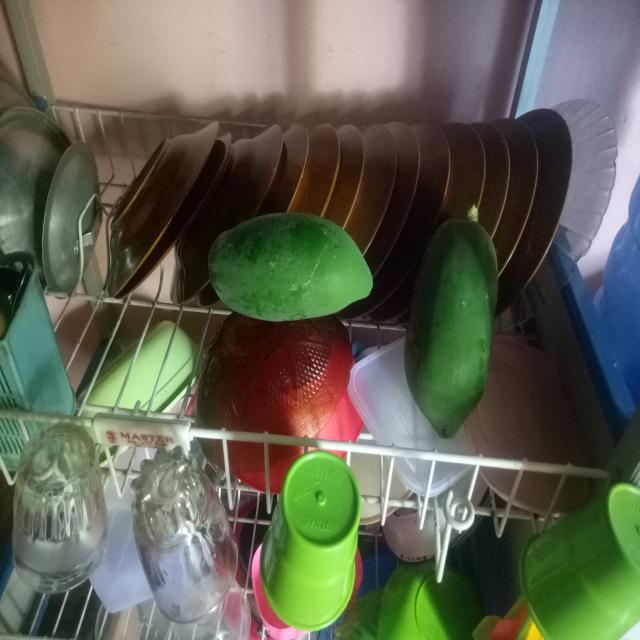Pepaya unrippen: (196, 210, 376, 334), (399, 231, 497, 433)
